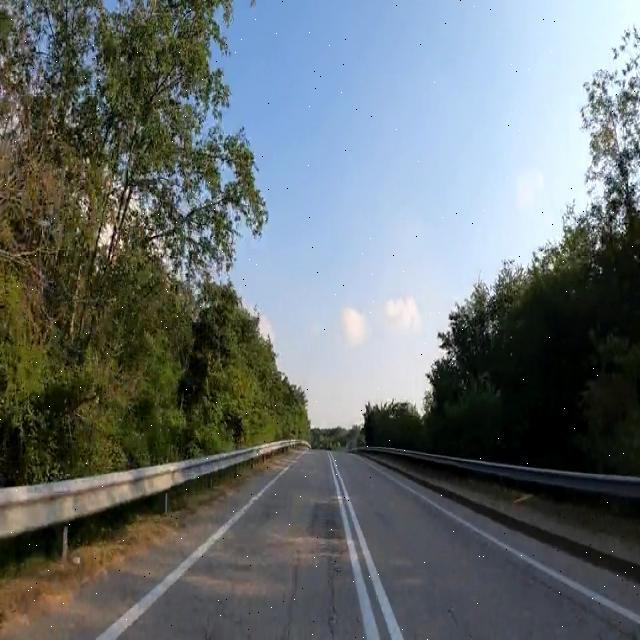lane: (369, 463, 640, 626), (98, 463, 292, 639), (331, 454, 403, 639), (331, 458, 380, 640)
